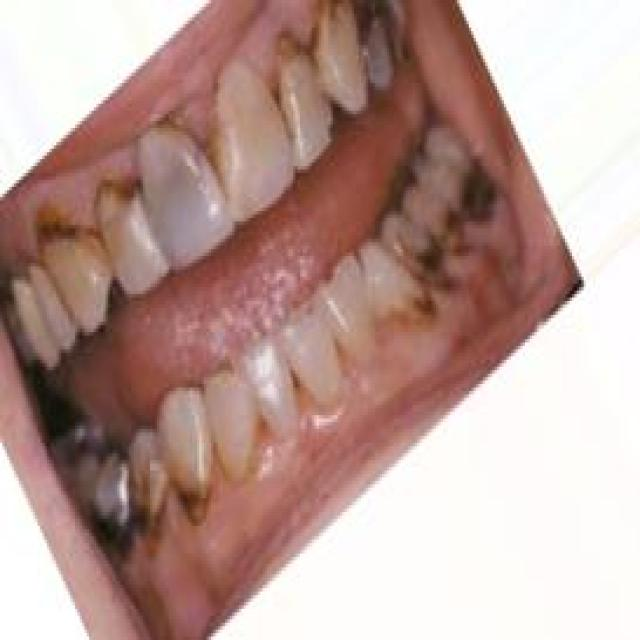caries: (399, 224, 460, 306), (124, 467, 174, 560), (354, 0, 402, 95), (172, 464, 226, 542), (27, 200, 88, 268), (102, 160, 150, 218)
